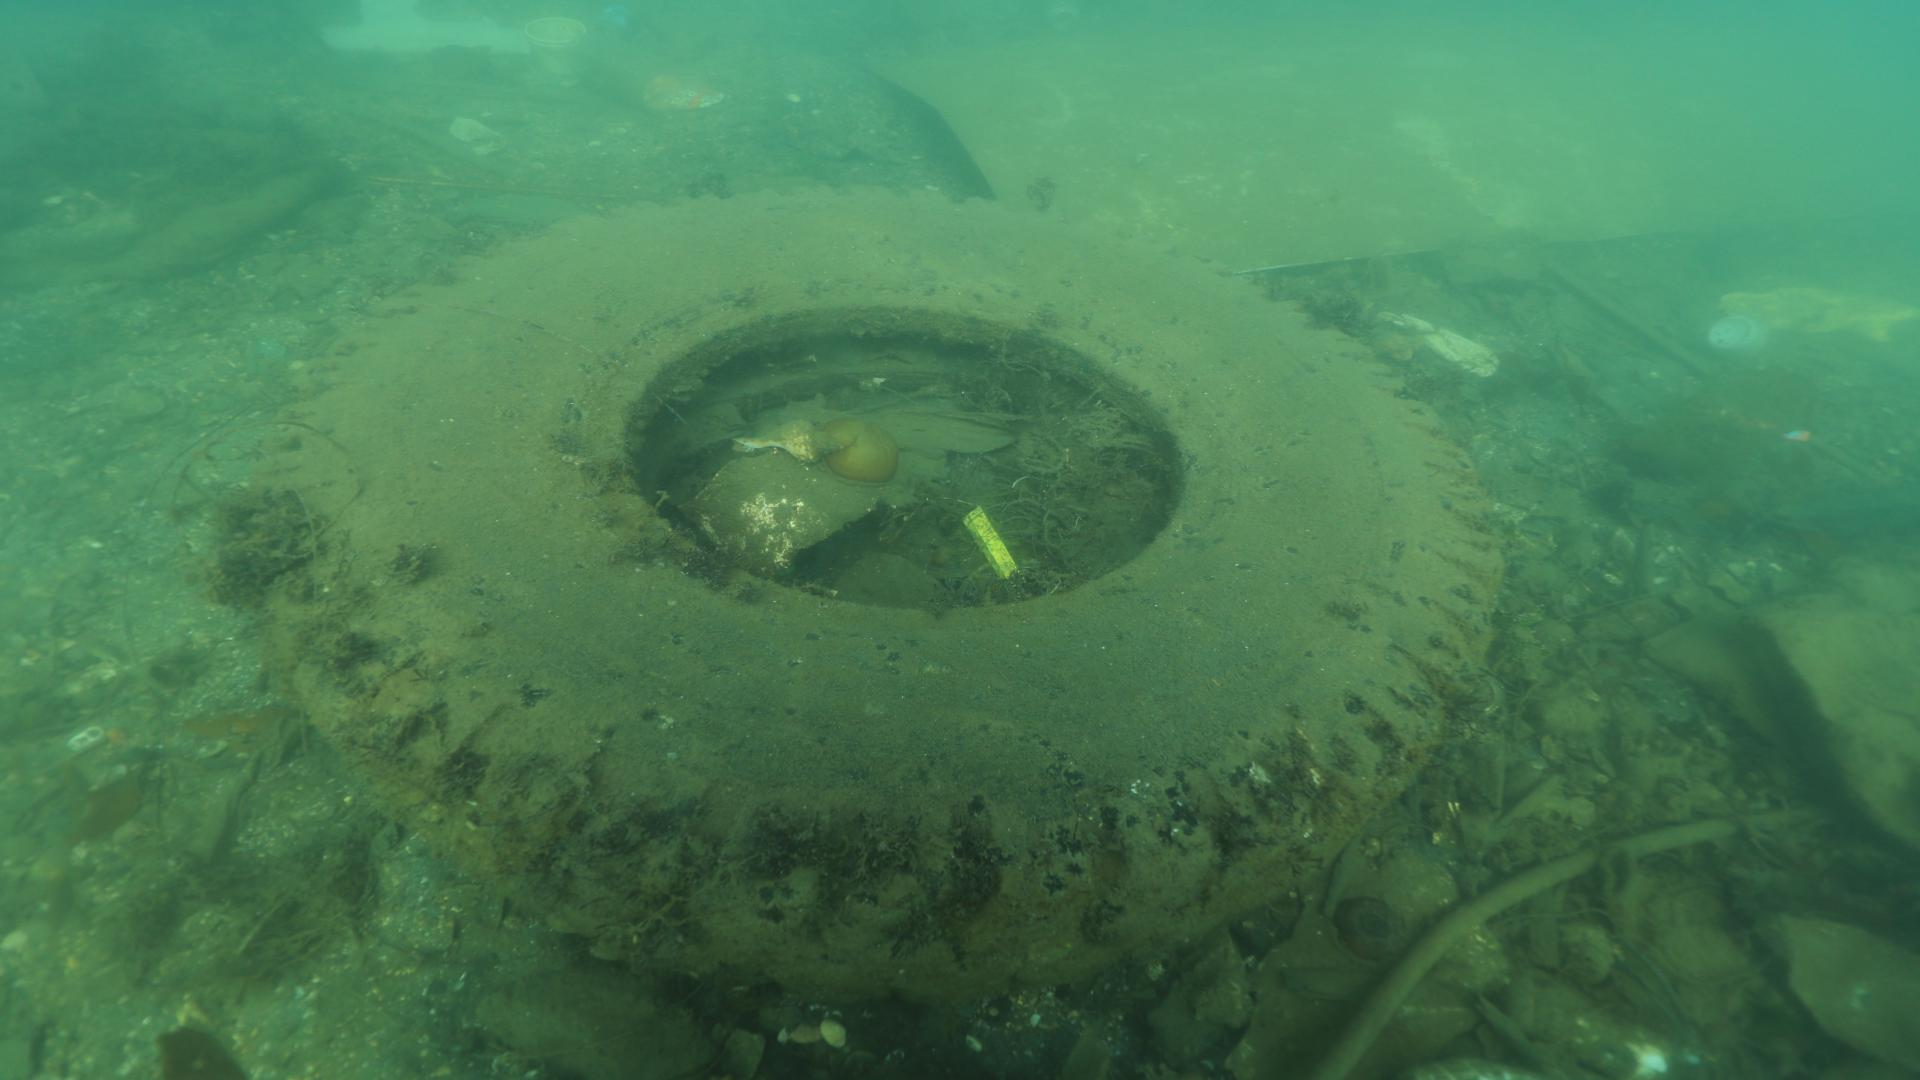tire: (256, 179, 1505, 992)
